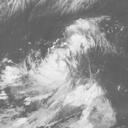cyclone: (33, 46, 73, 94)
